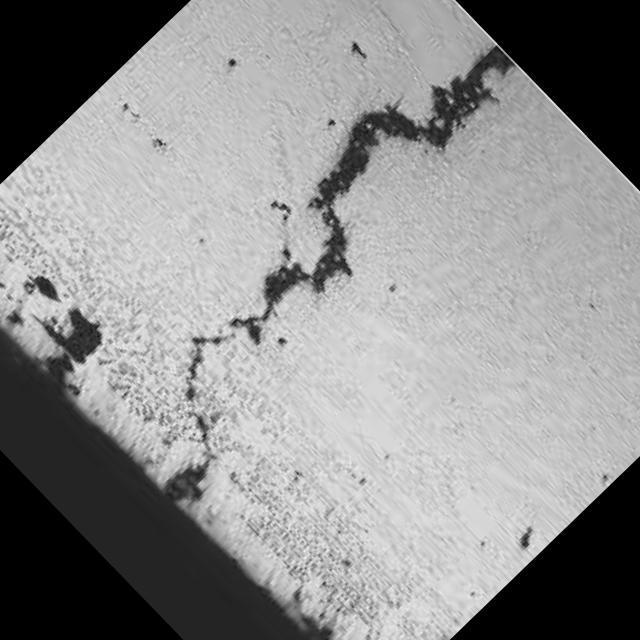defect: (174, 41, 529, 467)
